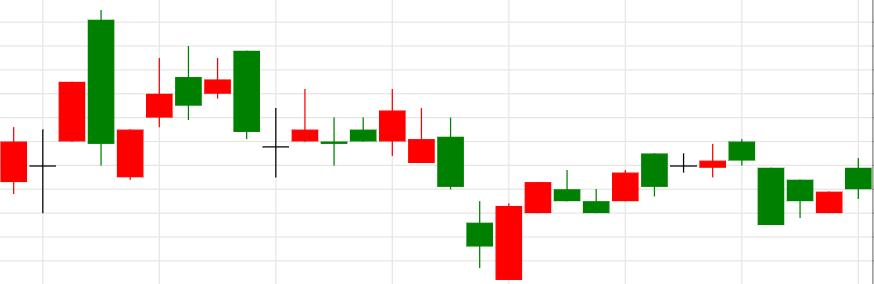bearish_engulfing_fall: (115, 43, 261, 179)
bullish_engulfing_rise: (378, 87, 523, 281)
